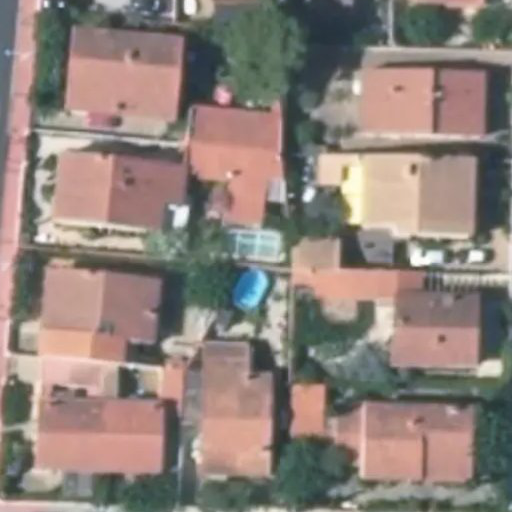pool: (232, 268, 274, 318)
